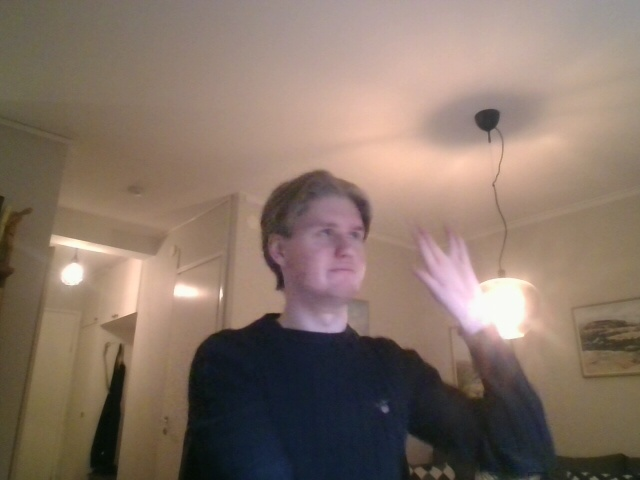LiveLong: (410, 223, 485, 319)
